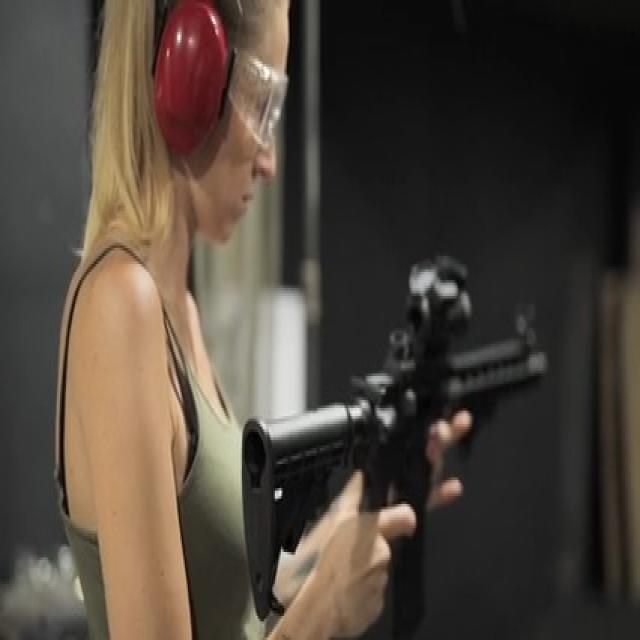Gun_Holder: (218, 239, 619, 640)
Person: (55, 0, 399, 640)
